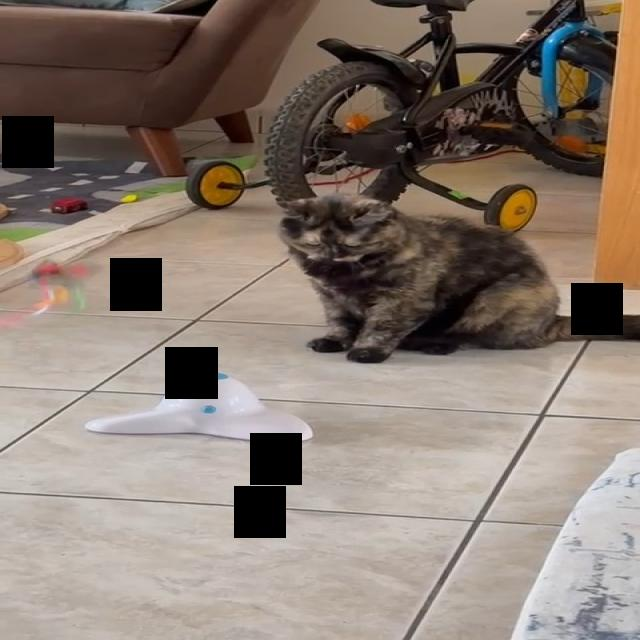authorized: (274, 192, 638, 363)
